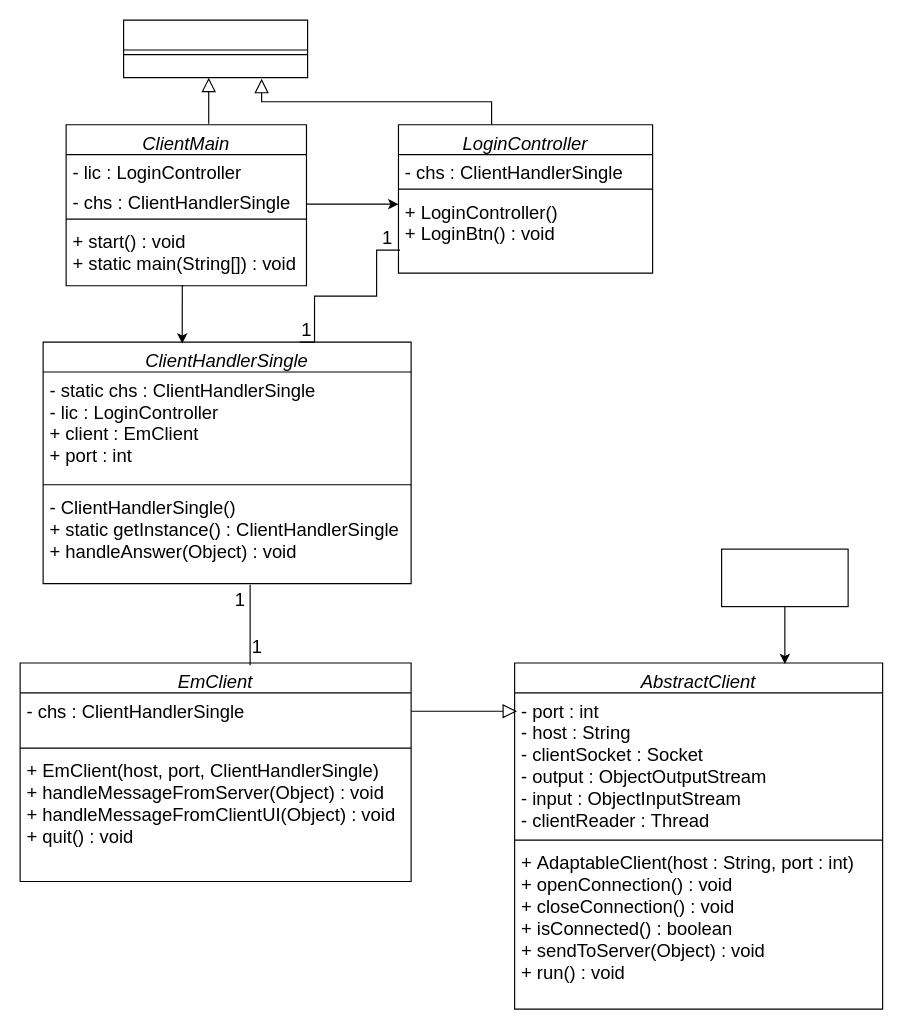
Image size: 903x1029. Some labels were removed from this diagram. The shapes that lost their labels are listed below. From the top down, each one's centre as x and y in pixels, then its label:
the point at 215,48: Application
the point at 784,577: «interface» Runnable
